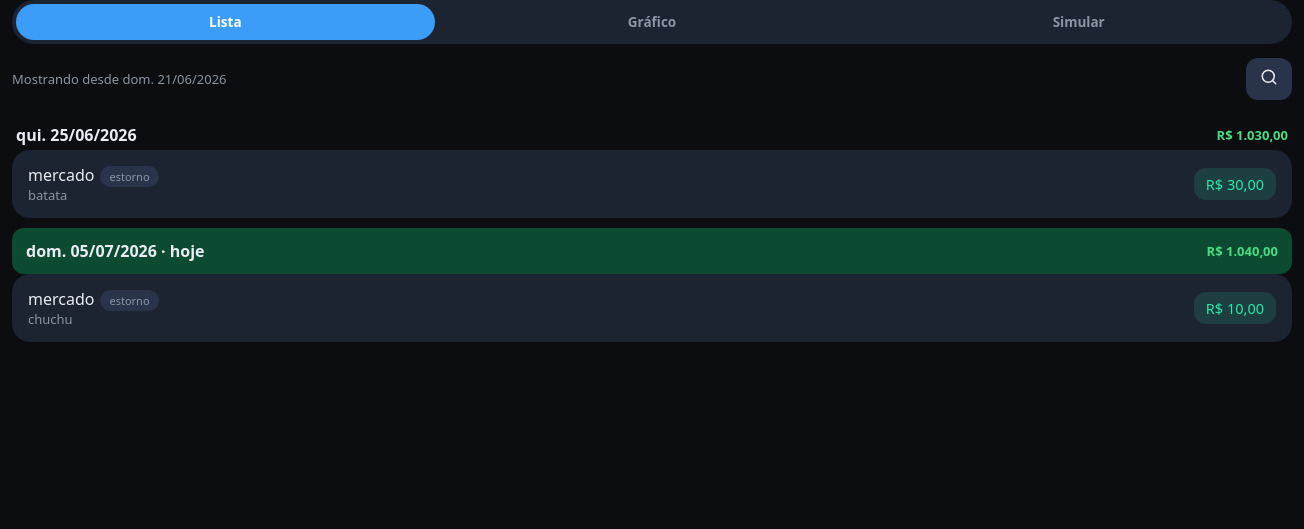
Test: busca por número do dia encontra lançamento pela data, não pela nota ou valor
Click the button named "Buscar e filtrar" at (1269, 79), box [1246, 58, 1292, 100]
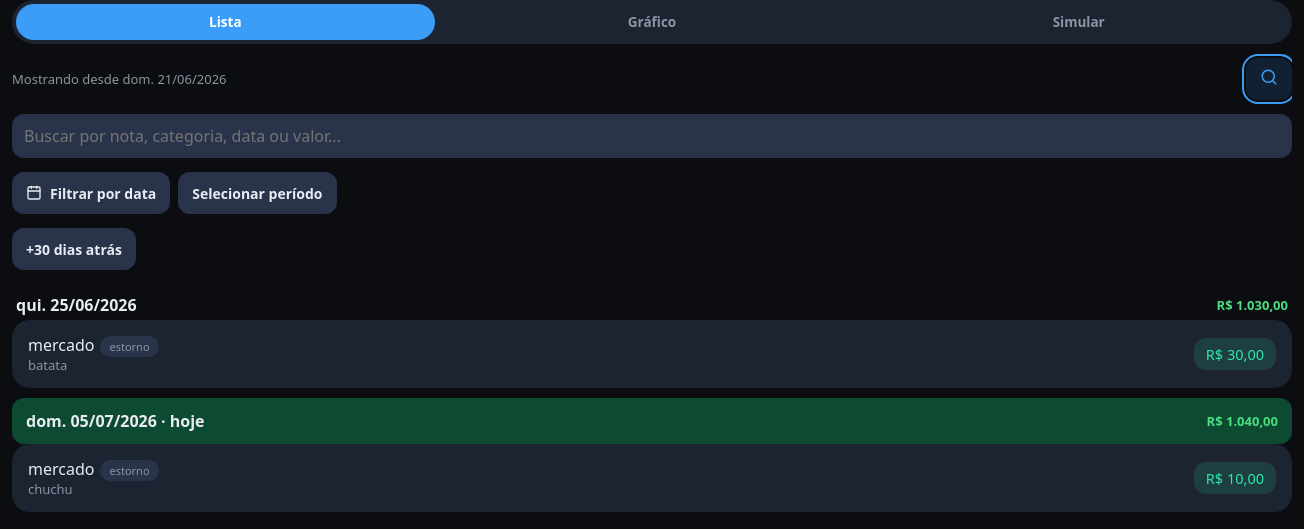
Type "25" into the search field with placeholder "Buscar por nota, categoria, data ou valor..." at (652, 136), box [12, 114, 1292, 158]
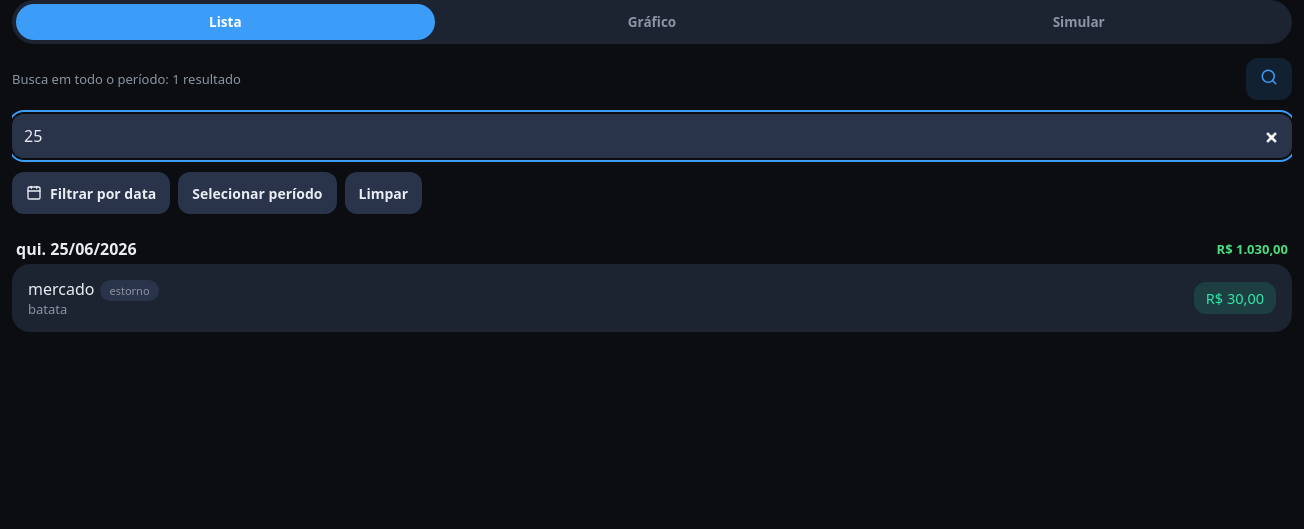
Expected: the text "batata" is shown, [28, 300, 67, 318]
Expected: the button "chuchu" is gone
